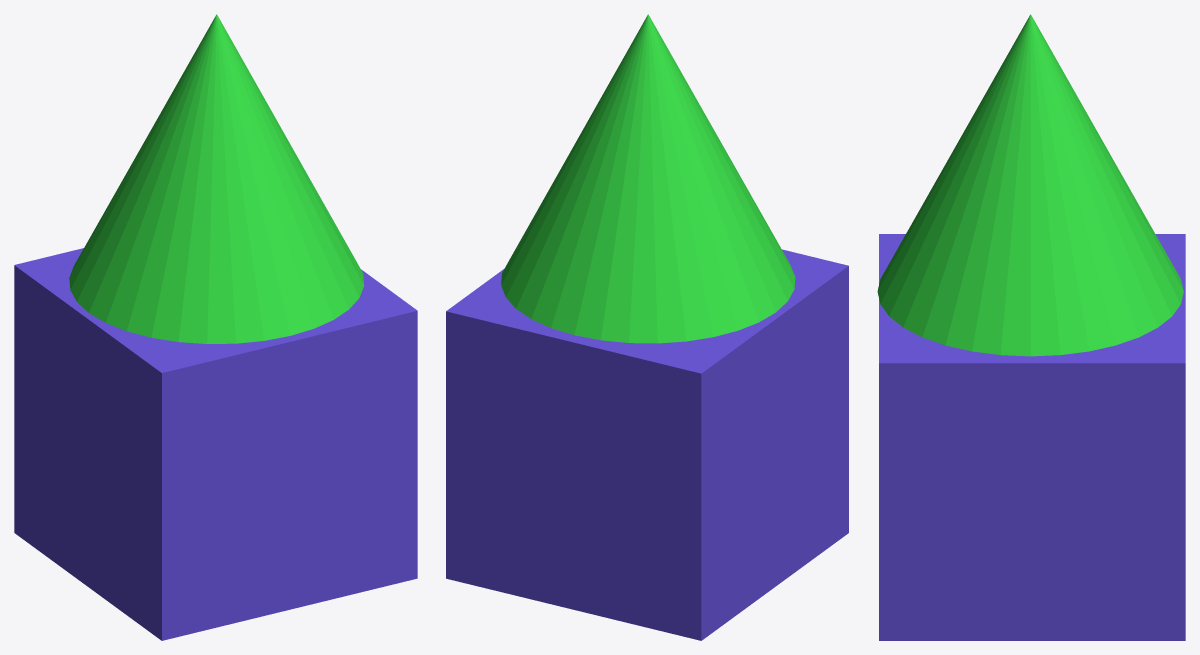
File: shapes.glb
The picture shows the model from 3 angles, left to right: view 1: azimuth 30°, elevation 25°; view 2: azimuth 150°, elevation 25°; view 3: azimuth 270°, elevation 25°; orthographic projection. The views are drawn at different scales.
Visible parts, largest first — view 1: Cube, Cone; view 2: Cube, Cone; view 3: Cube, Cone.
Boxes of the visible parts, x1,y1,x2,y2 form: Cube: [14, 248, 417, 640]; Cone: [69, 14, 364, 343]; Cube: [446, 249, 848, 640]; Cone: [501, 14, 795, 343]; Cube: [879, 234, 1185, 640]; Cone: [877, 14, 1183, 356].
Bounding box in the file's own units: 2 × 4.05 × 2.01.
